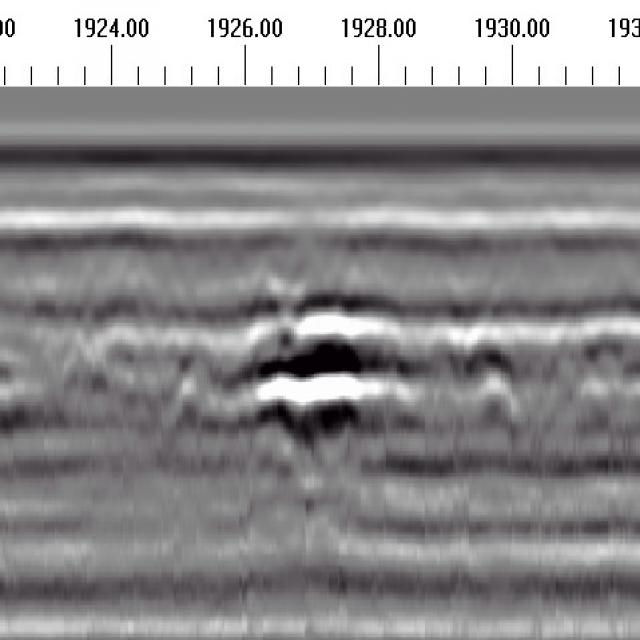loose: (187, 259, 517, 471)
